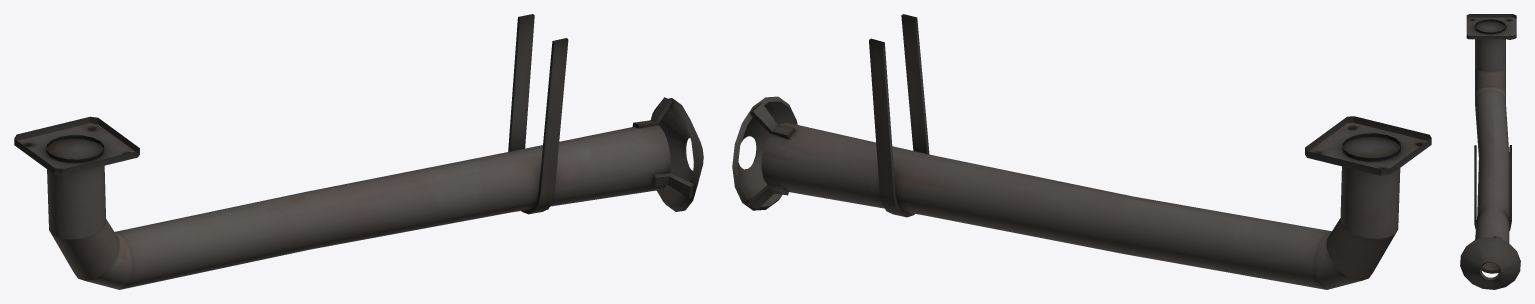
The model's file is props_forest_chimney01.glb.
3 views of the same model, side by side, from view 1: azimuth 30°, elevation 25°; view 2: azimuth 150°, elevation 25°; view 3: azimuth 270°, elevation 25° (orthographic). The views are drawn at different scales.
Visible parts, largest first — view 1: models/props_forest/chimney01; view 2: models/props_forest/chimney01; view 3: models/props_forest/chimney01.
Boxes of the visible parts, x1,y1,x2,y2 form: models/props_forest/chimney01: (14,14,703,289); models/props_forest/chimney01: (732,14,1431,289); models/props_forest/chimney01: (1460,14,1520,289).
Bounding box in the file's own units: 259 × 78.17 × 38.78.
Materials: 1 (1 with a texture image).
